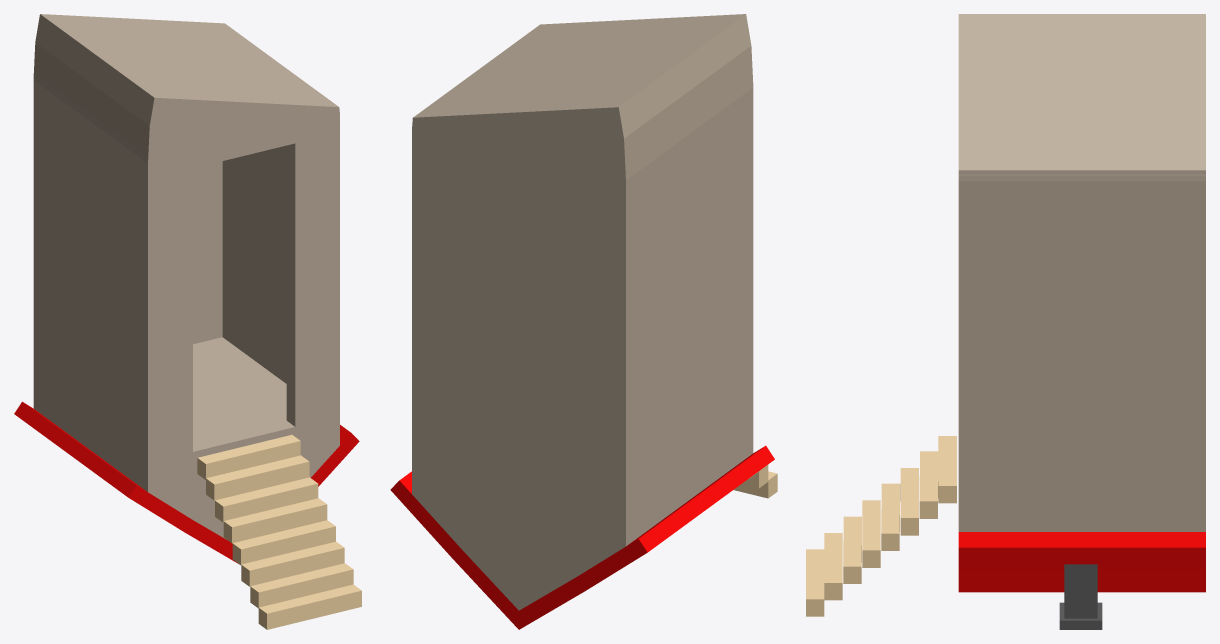
File: room_1.glb
3 views of the same model, side by side, from view 1: azimuth 30°, elevation 25°; view 2: azimuth 150°, elevation 25°; view 3: azimuth 270°, elevation 25° (orthographic). The views are drawn at different scales.
Parts seen in each view (by area): view 1: komnata_1; view 2: komnata_1; view 3: komnata_1.
Boxes of the visible parts, box(x1,y1,x2,y2) form: komnata_1: box(14, 14, 361, 629); komnata_1: box(390, 14, 777, 629); komnata_1: box(806, 14, 1205, 629).
Size of what is drawn, in the model's own units: 1.88 by 3.82 by 2.6.
1 material, 1 textured.
